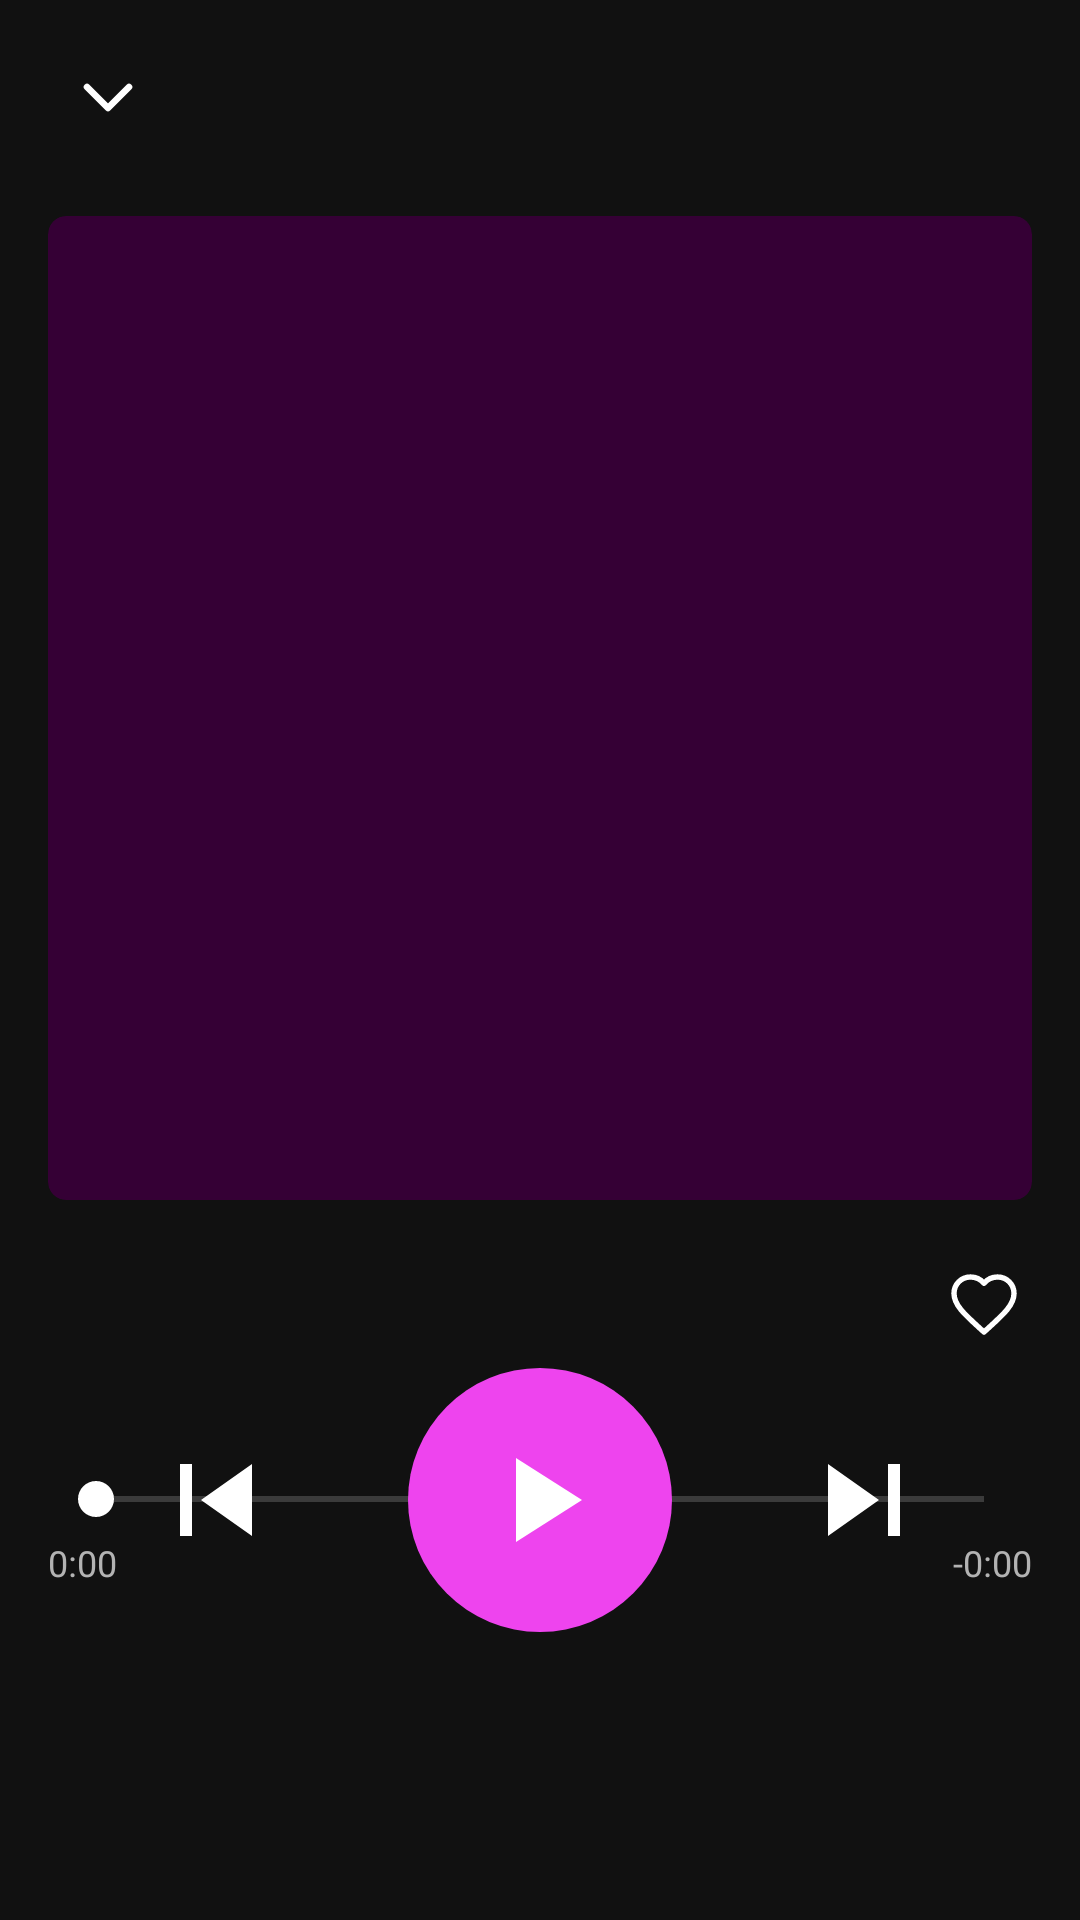

Icon bounding boxes for this 1080px x 1920px phone screenshot, format (x1, y1, x2, y2):
chevron down: (83, 83, 133, 112)
favorite border: (951, 1274, 1017, 1335)
play: (408, 1368, 672, 1632)
